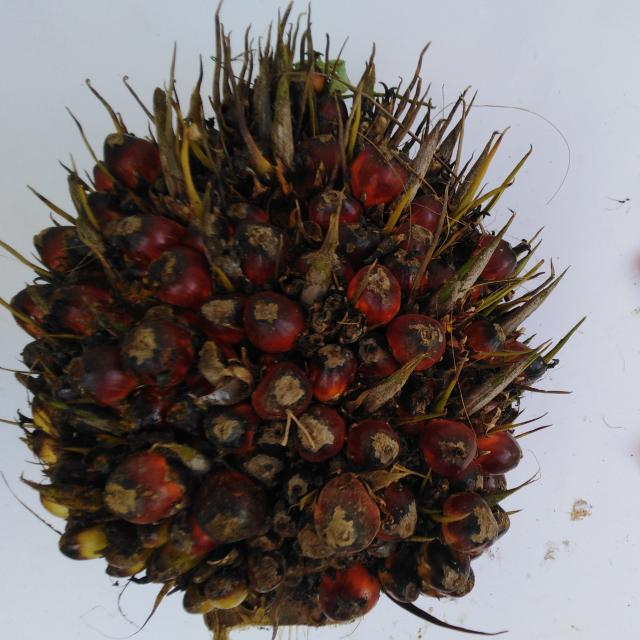FFB: (43, 60, 495, 618)
